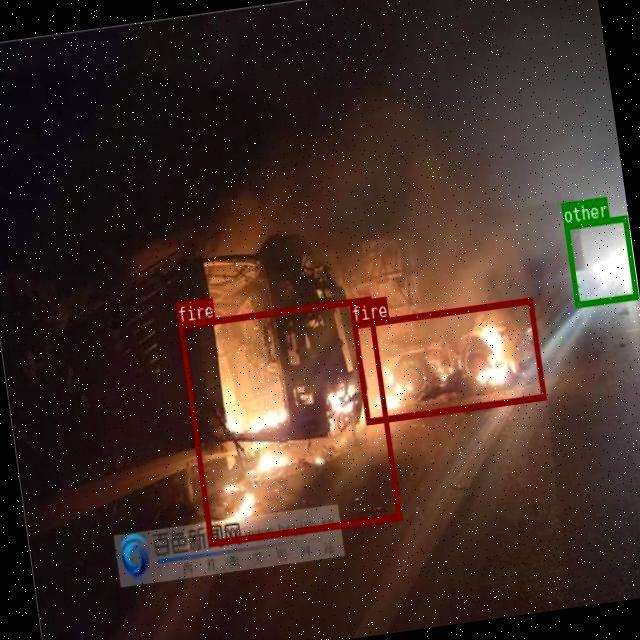fire: (178, 295, 402, 546), (352, 297, 546, 423)
